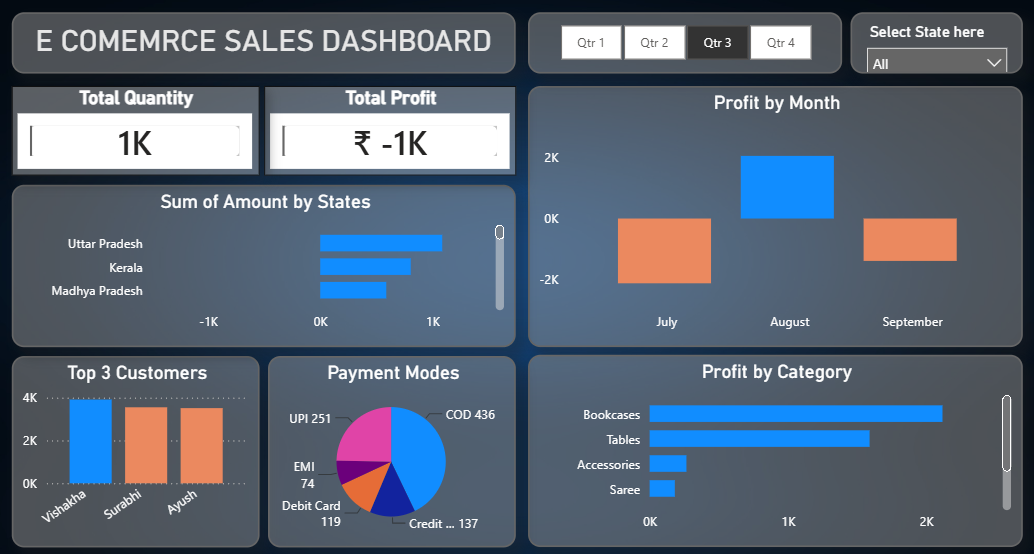

Layout of this report page (visuals, bound fields, positions):
{"tool":"powerbi","page":{"name":"Page 1","canvas":[1280,720],"ordinal":0},"visuals":[{"type":"columnChart","title":"Profit by Month","fields":{"Category":["Orders.Order Date.Variation.Date Hierarchy.Month"],"Y":["Sum(Details.Profit)"]},"box":[651.1,173.3,477.8,252.2],"z":0},{"type":"textbox","box":[153.3,102.2,486.7,58.9],"z":1000},{"type":"clusteredBarChart","title":"Profit by Category","fields":{"Y":["Sum(Details.Profit)"],"Category":["Details.Sub-Category"]},"box":[651.1,433.3,477.8,185.6],"z":2000},{"type":"columnChart","title":"Top 3 Customers","fields":{"Category":["Orders.CustomerName"],"Y":["Sum(Details.Amount)"]},"box":[153.3,434.4,238.9,184.4],"z":3000},{"type":"clusteredBarChart","title":"Sum of Amount by States","fields":{"Y":["Sum(Details.Profit)"],"Category":["Orders.State"]},"box":[153.3,268.9,486.7,156.7],"z":4000},{"type":"pieChart","title":"Payment Modes","fields":{"Y":["Sum(Details.Quantity)"],"Series":["Details.PaymentMode"]},"box":[401.1,434.4,238.9,184.4],"z":5000},{"type":"slicer","fields":{"Values":["Orders.Order Date.Variation.Date Hierarchy.Quarter"]},"box":[651.1,102.2,303.3,58.9],"z":6000},{"type":"cardVisual","title":"Total Profit","fields":{"Data":["Sum(Details.Profit)"]},"box":[396.7,173.3,243.3,86.7],"z":7000},{"type":"cardVisual","title":"Total Quantity","fields":{"Data":["Sum(Details.Quantity)"]},"box":[153.3,173.3,238.9,86.7],"z":8000},{"type":"slicer","fields":{"Values":["Orders.State"]},"box":[962.2,102.2,166.7,58.9],"z":9000}]}

Visuals, with their boxes on the page's 1280x720 design canvas (x1, y1, x2, y2). These are canvas units, not pixel positions in the 1034x554 screenshot, which may show the page scaled, cropped or inside an application window:
"Profit by Month" columnChart: region(651, 173, 1129, 426)
textbox: region(153, 102, 640, 161)
"Profit by Category" clusteredBarChart: region(651, 433, 1129, 619)
"Top 3 Customers" columnChart: region(153, 434, 392, 619)
"Sum of Amount by States" clusteredBarChart: region(153, 269, 640, 426)
"Payment Modes" pieChart: region(401, 434, 640, 619)
slicer - Orders.Order Date.Variation.Date Hierarchy.Quarter: region(651, 102, 954, 161)
"Total Profit" cardVisual: region(397, 173, 640, 260)
"Total Quantity" cardVisual: region(153, 173, 392, 260)
slicer - Orders.State: region(962, 102, 1129, 161)
